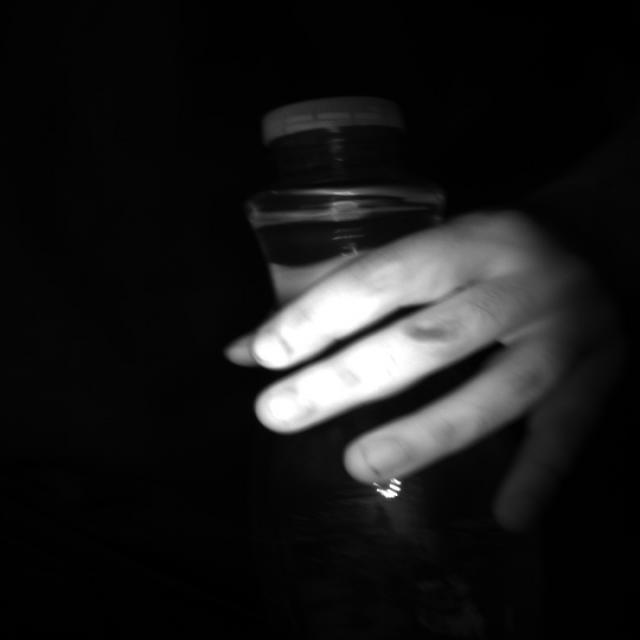Not Good: (261, 92, 412, 154)
